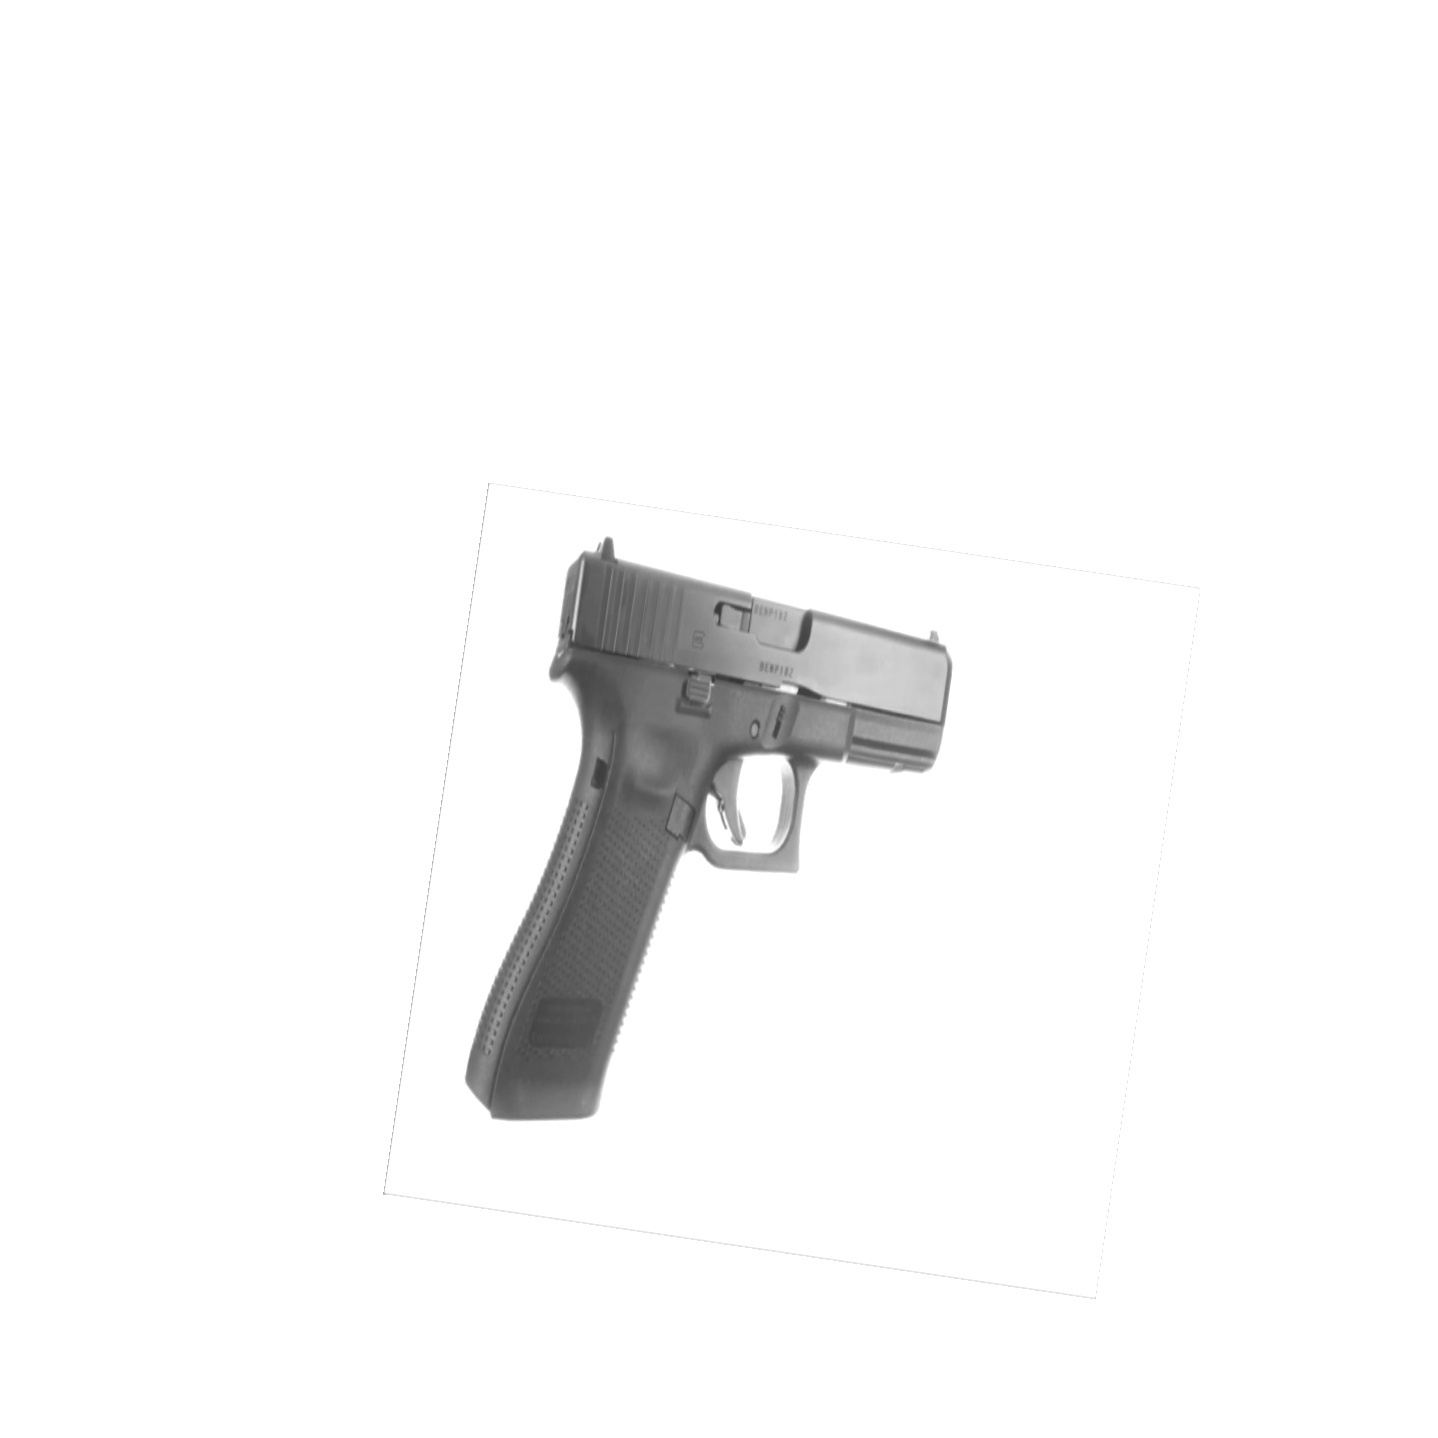gun: (456, 527, 957, 1138)
